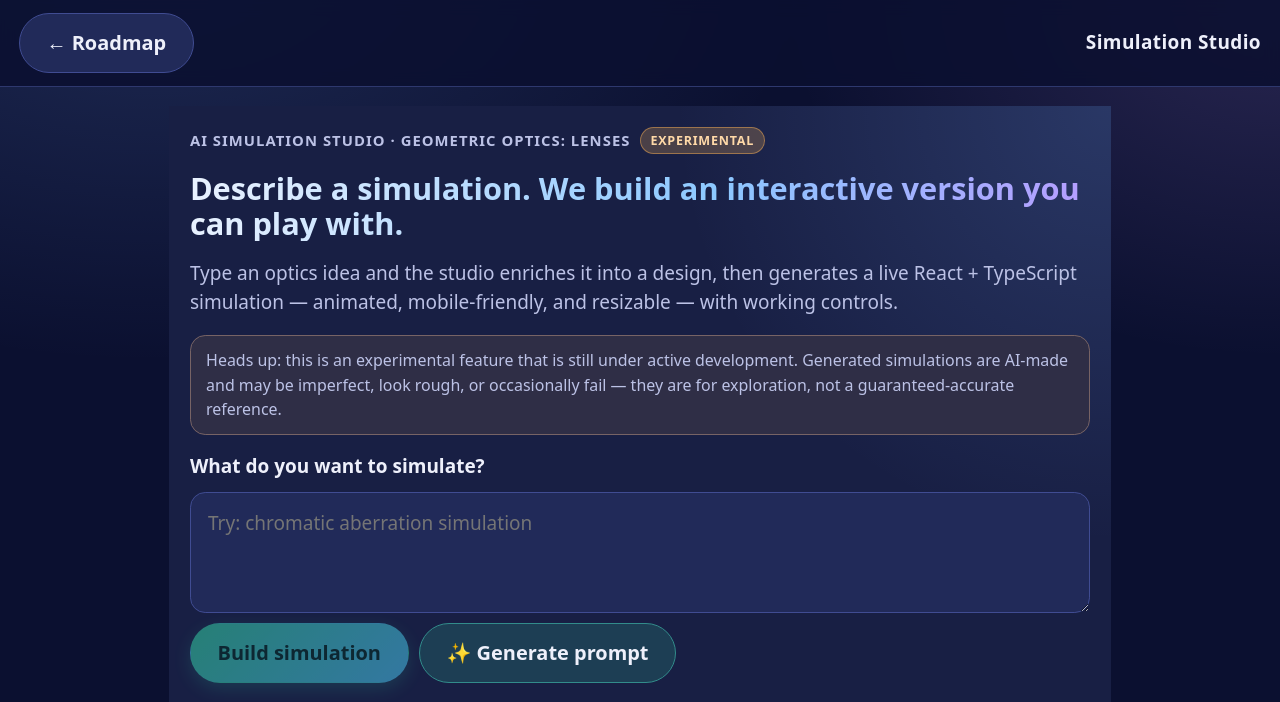
Test: SimulationStudio › shows the error and no simulation when generation fails
Type "pendulum" into the text box labelled "What do you want to simulate?".
click(640, 553); type("pendulum")  # box [190, 492, 1090, 613]
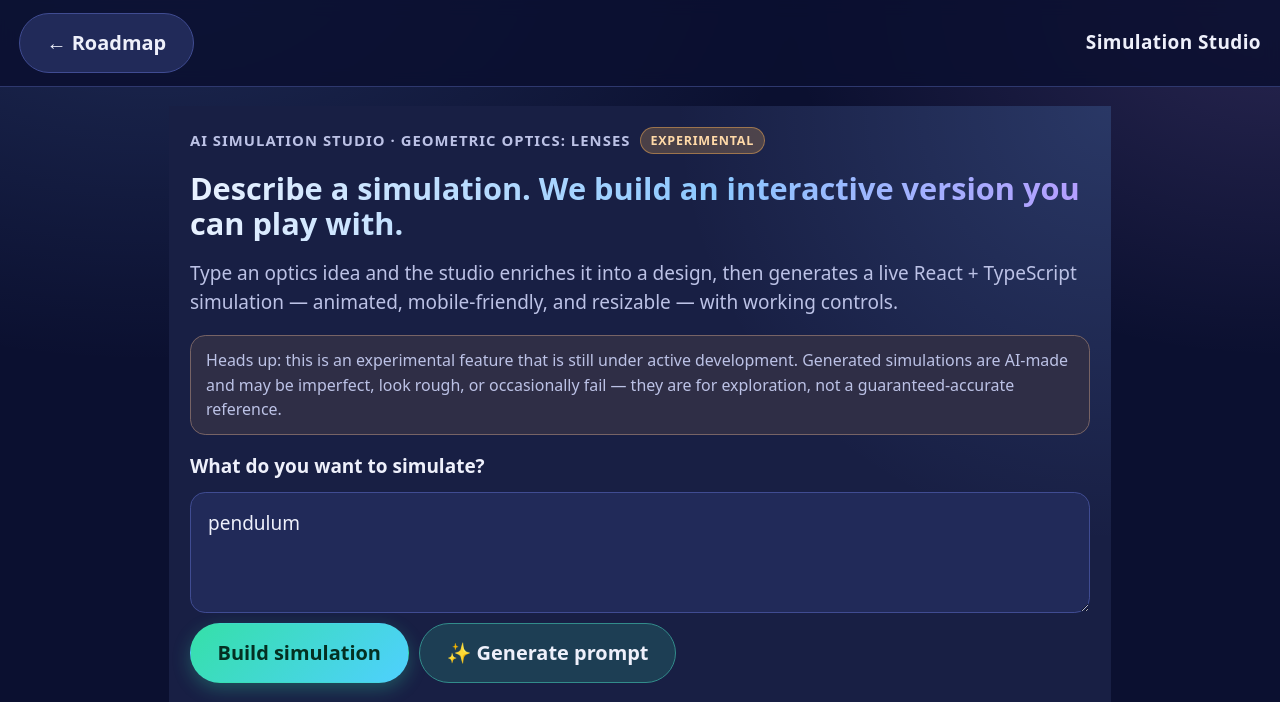
Click the button "Build simulation".
click(299, 653)  # box [190, 624, 408, 683]
(page scrolled)
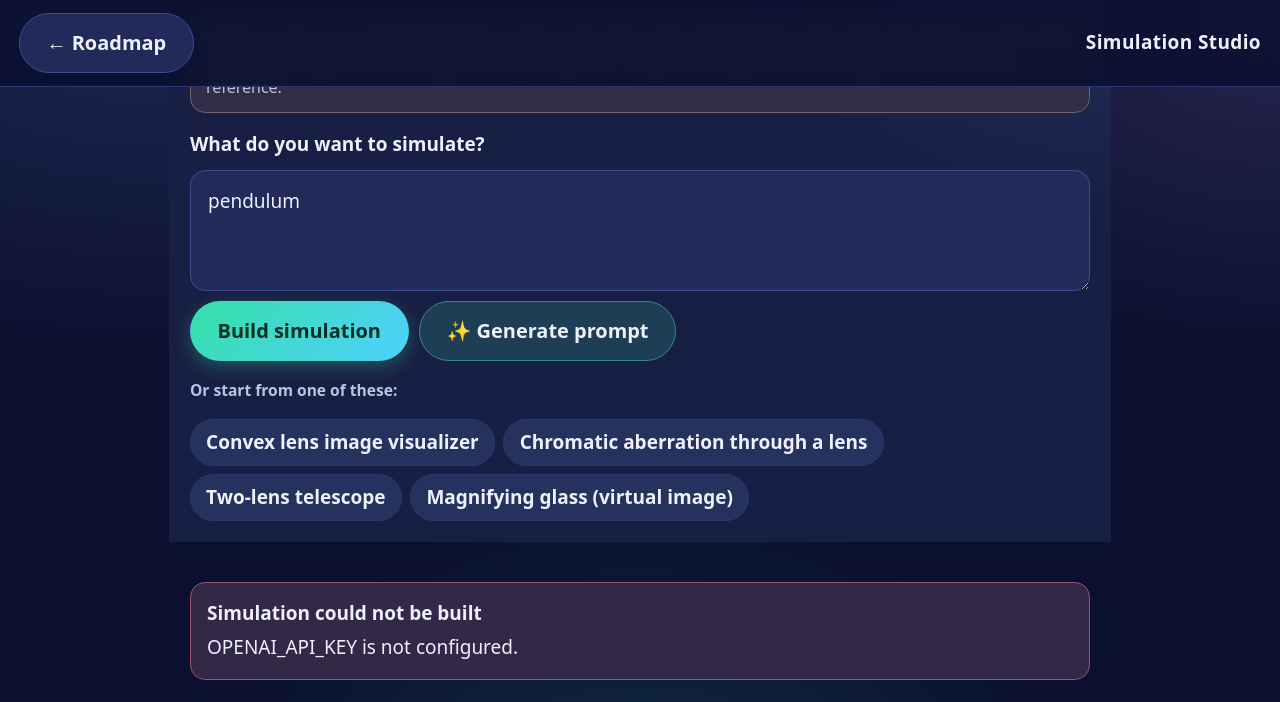
Result: the text "Simulation could not be built" is shown at [207, 600, 482, 626]
Result: the text "OPENAI_API_KEY is not configured." is shown at [207, 634, 518, 660]
